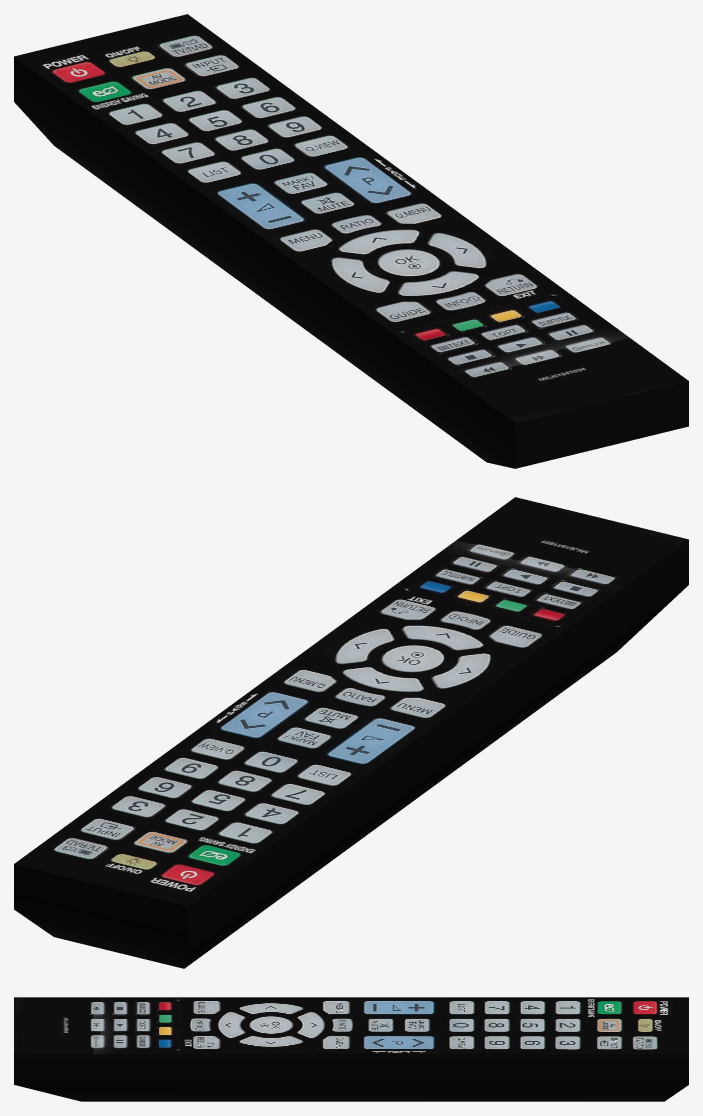
3 renders of one model, top to bottom at view 1: azimuth 30°, elevation 25°; view 2: azimuth 150°, elevation 25°; view 3: azimuth 270°, elevation 25°, orthographic. The views are drawn at different scales.
Parts seen in each view (by area): view 1: cube1_Remote_Keys, cube1_Remote_Black; view 2: cube1_Remote_Keys, cube1_Remote_Black, cube1_Remode_IR; view 3: cube1_Remote_Keys, cube1_Remote_Black.
Part boxes in pixels (<box>): cube1_Remote_Keys: <box>14,14,688,423</box>; cube1_Remote_Black: <box>14,57,688,468</box>; cube1_Remote_Keys: <box>14,497,688,906</box>; cube1_Remote_Black: <box>14,540,688,968</box>; cube1_Remode_IR: <box>14,864,187,951</box>; cube1_Remote_Keys: <box>14,997,688,1054</box>; cube1_Remote_Black: <box>14,1054,688,1101</box>.
Bounding box in the file's own units: 1 × 0.4464 × 5.
Materials: 3 (1 with a texture image).
